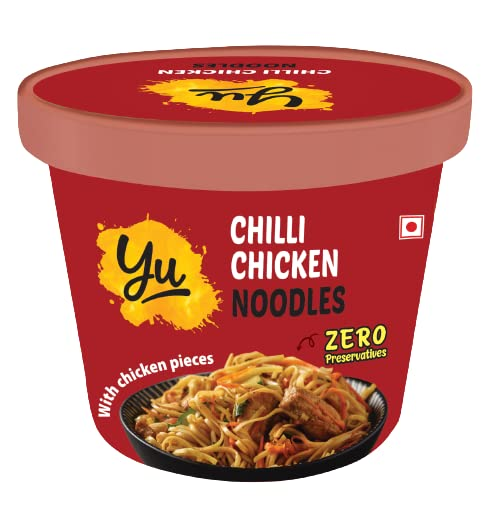non_veg: (399, 213, 427, 251)
